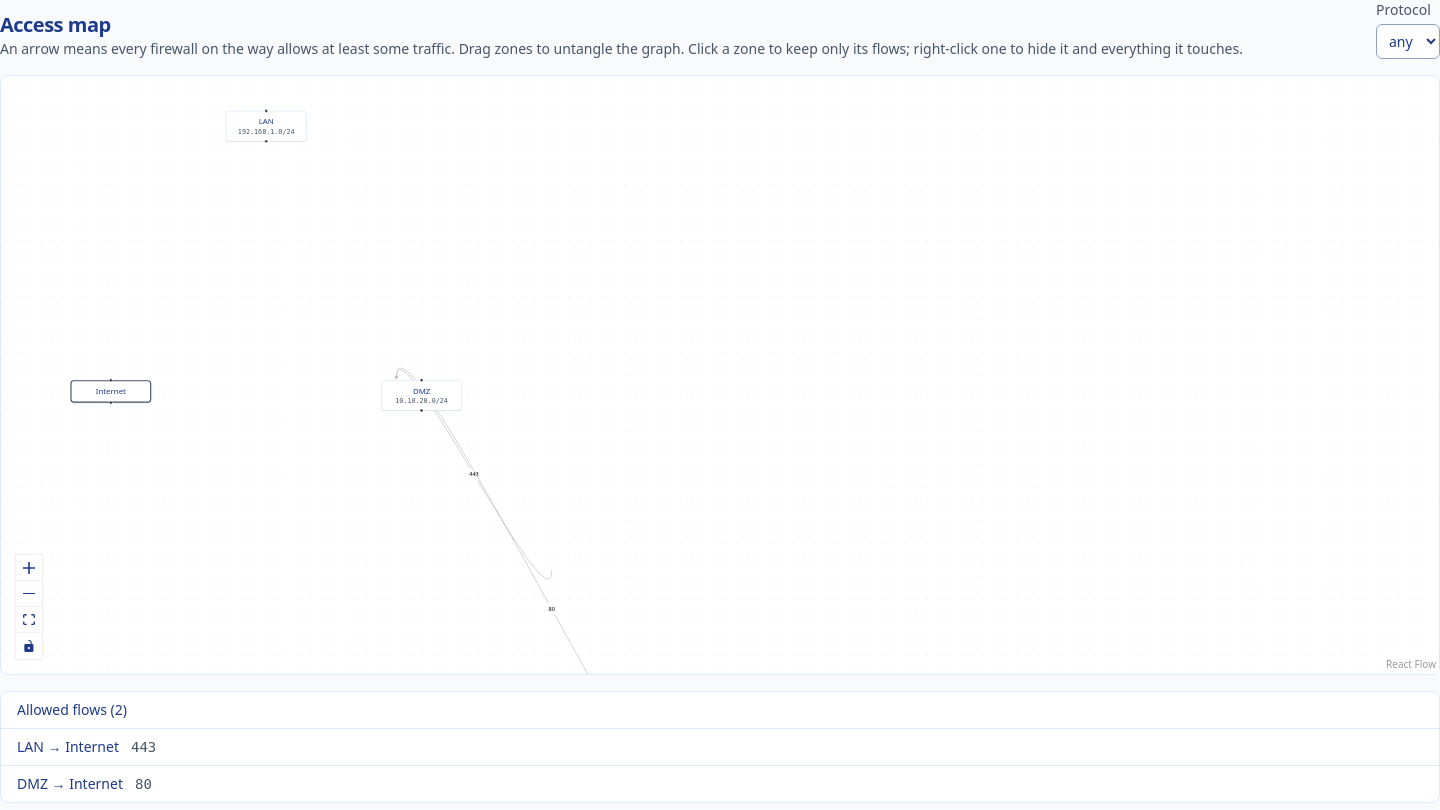
AccessMapPage › hiding a zone › drops the flows that touch the hidden zone
The image size is (1440, 810).
Expected: the text "LAN → Internet" is shown, [17,737,119,757]
Right-click the text "DMZ": (422, 391) [413,385,430,396]
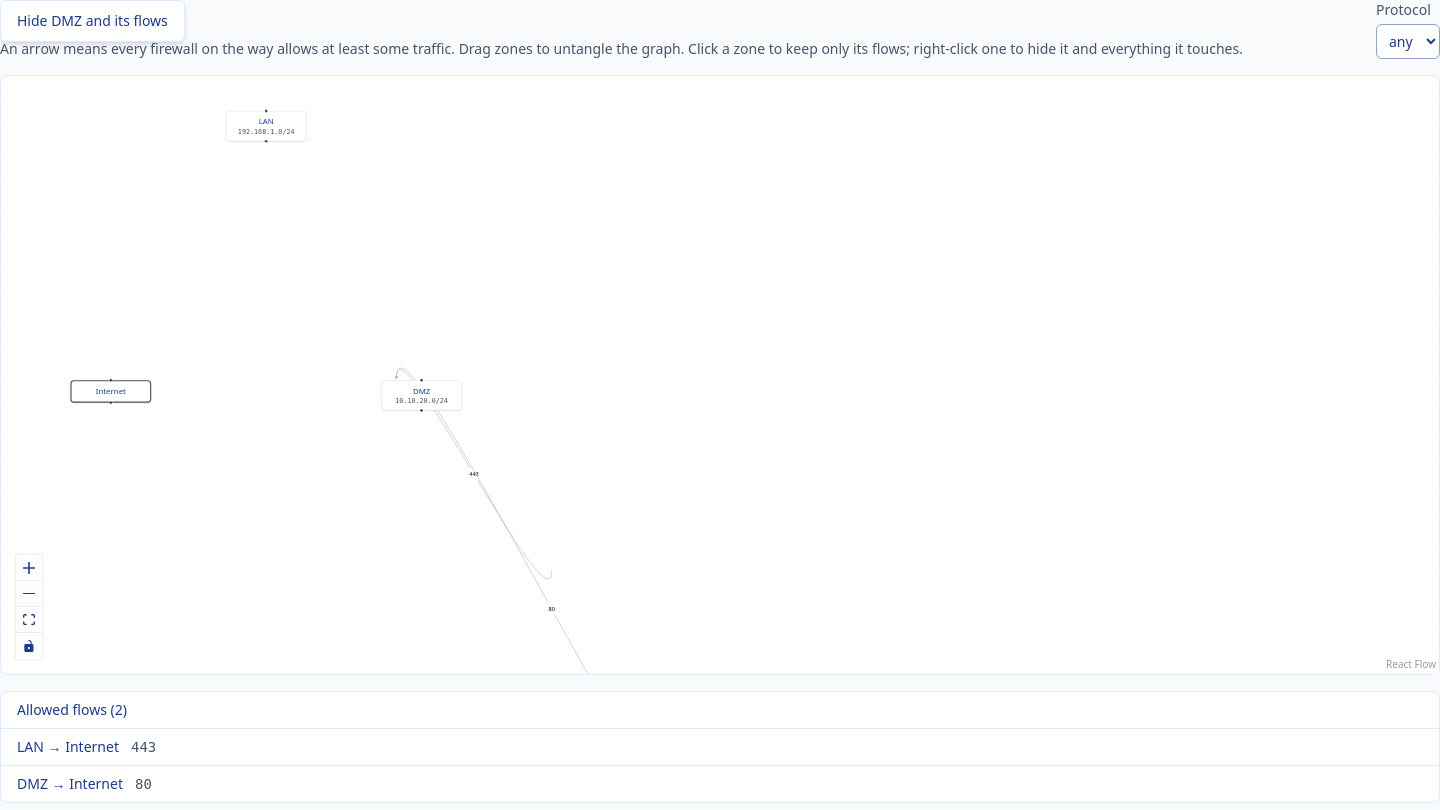
Click the menu item "Hide DMZ and its flows": (92, 21) [5,5,180,37]
(page scrolled)
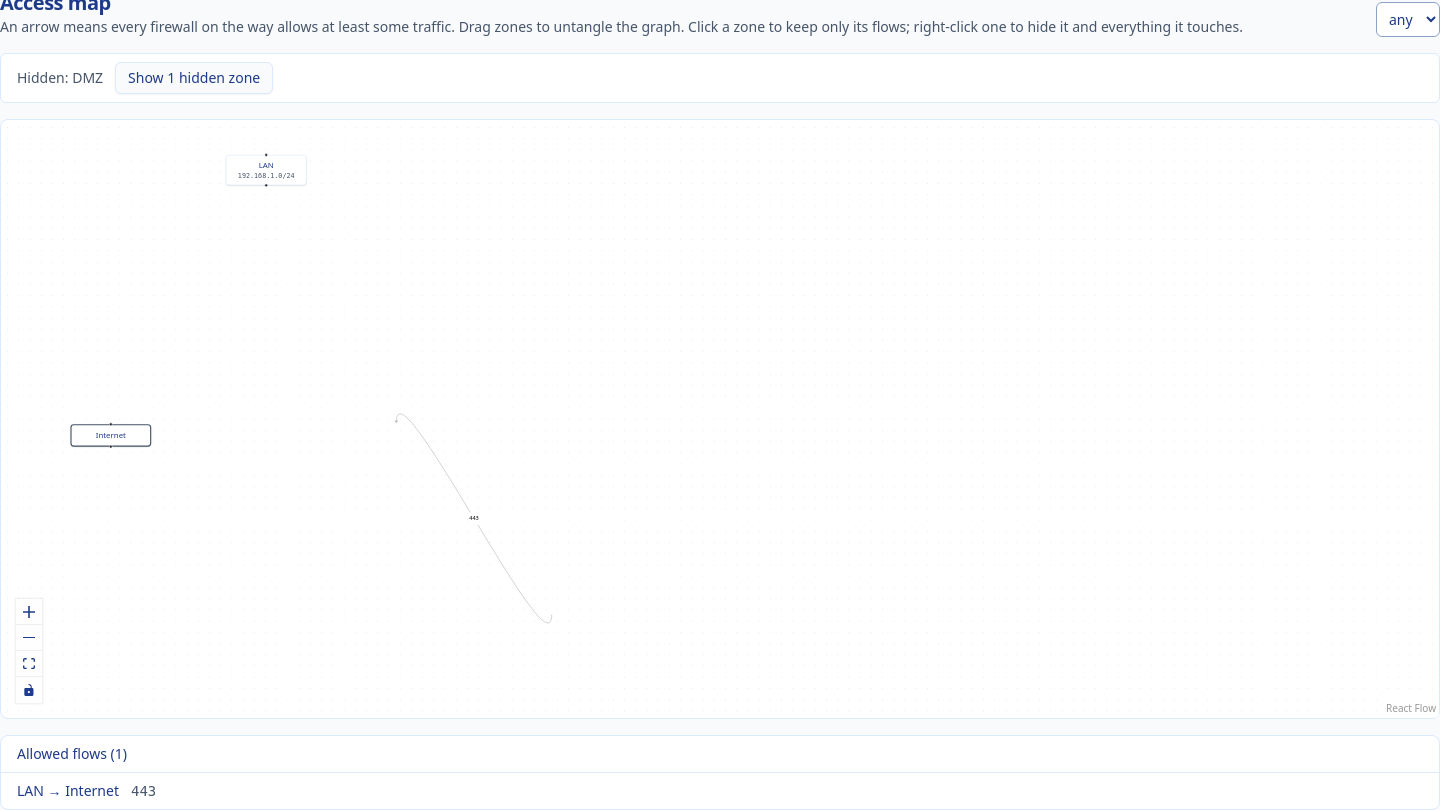
Expected: the text "LAN → Internet" is shown, [17,781,119,801]
Result: the button "DMZ → Internet" is gone
